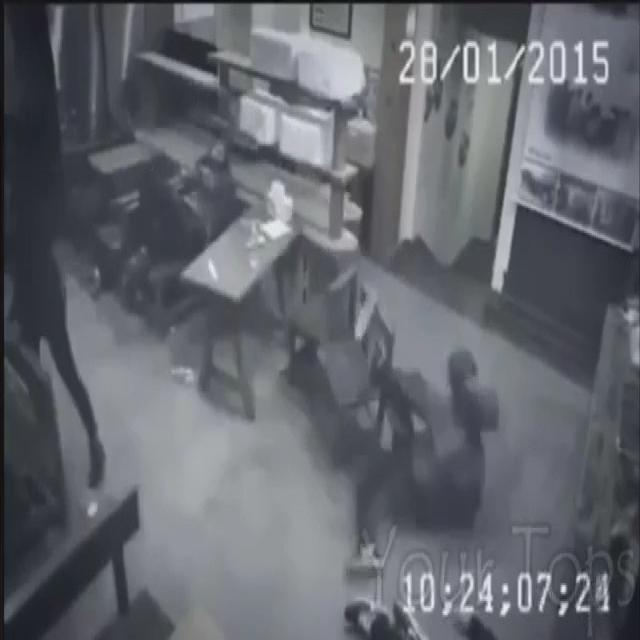fight: (258, 245, 526, 584)
